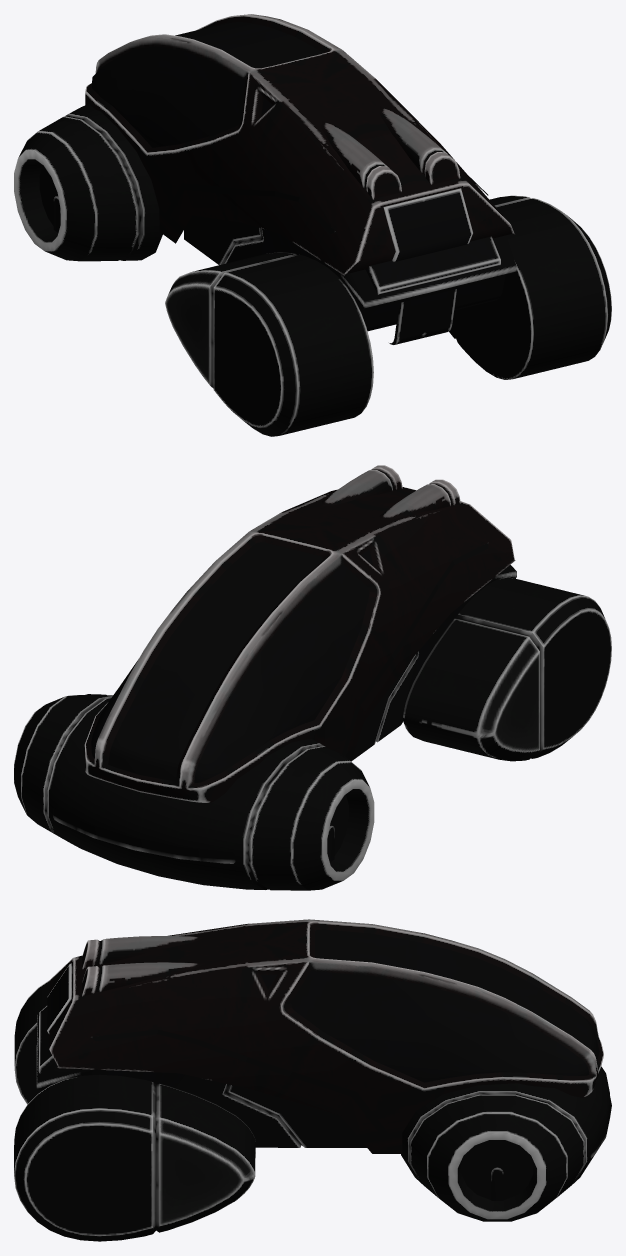
The model's file is propCab.glb.
3 views of the same model, one above another, from view 1: azimuth 30°, elevation 25°; view 2: azimuth 150°, elevation 25°; view 3: azimuth 270°, elevation 25° (orthographic). The views are drawn at different scales.
Parts seen in each view (by area): view 1: propCab; view 2: propCab; view 3: propCab.
Part boxes in pixels (x1=…): propCab: x1=14, y1=14, x2=611, y2=436; propCab: x1=14, y1=465, x2=611, y2=890; propCab: x1=14, y1=919, x2=611, y2=1241.
Size of the model in its own units: 3.4 by 2.45 by 5.72.
1 material, 1 textured.
